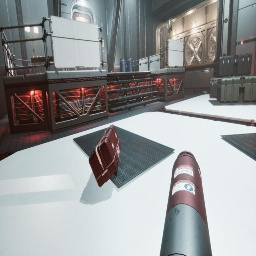EmergencyPhone ,: (100, 38, 104, 48)
FirstAidBox ,: (89, 125, 121, 187)
NitrogenTank ,: (160, 150, 212, 256)
SafetySwitchPanel ,: (148, 68, 149, 71)
